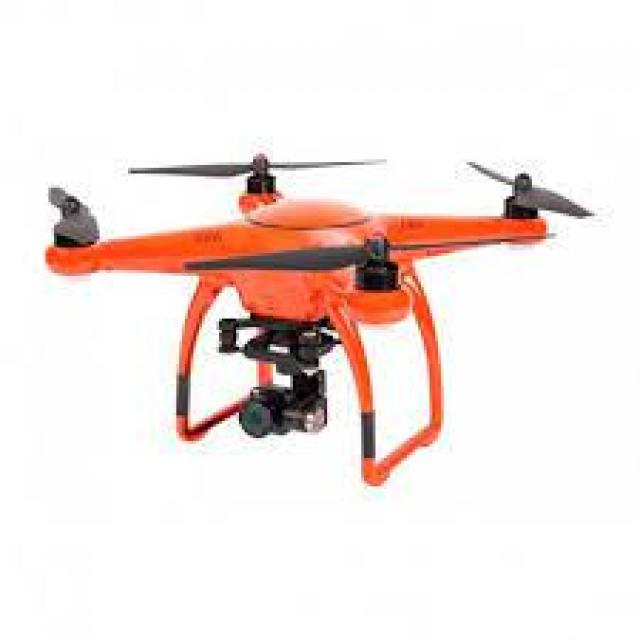drones: (33, 136, 607, 488)
